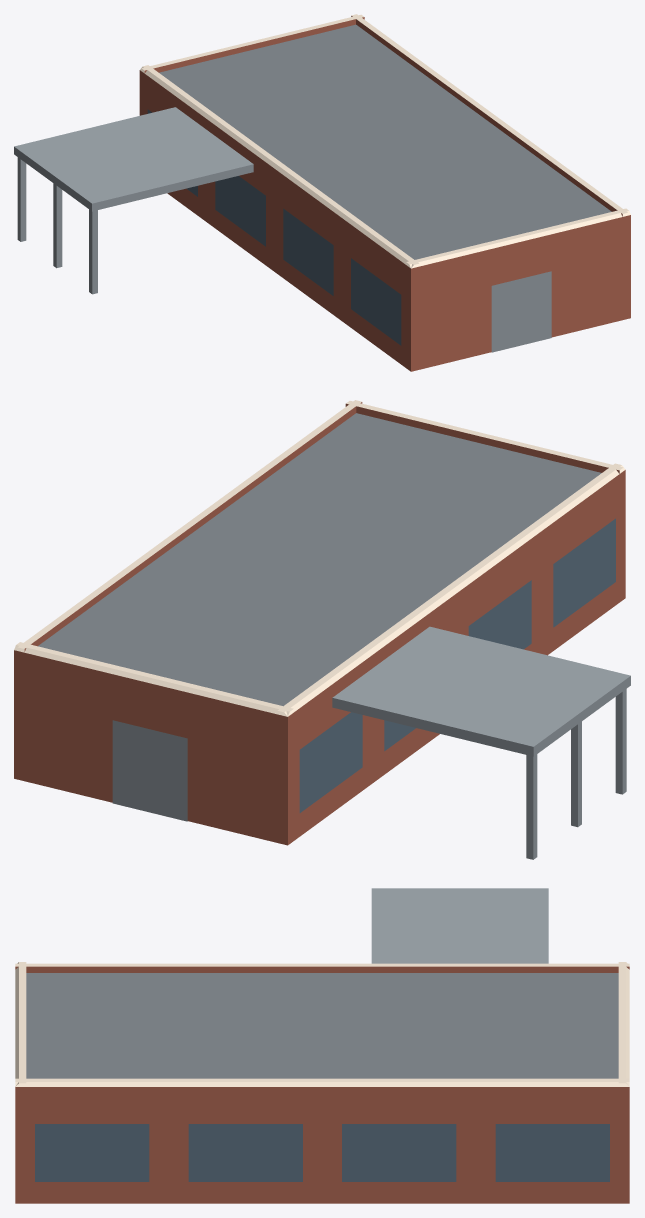
Rendered from clt-cne-200-camp-road.glb.
3 views of the same model, one above another, from view 1: azimuth 30°, elevation 25°; view 2: azimuth 150°, elevation 25°; view 3: azimuth 270°, elevation 25° (orthographic). The views are drawn at different scales.
Parts seen in each view (by area): view 1: 200 Camp Road, Camp North End; view 2: 200 Camp Road, Camp North End; view 3: 200 Camp Road, Camp North End.
Boxes of the visible parts, <box> form: 200 Camp Road, Camp North End: <box>14,14,630,371</box>; 200 Camp Road, Camp North End: <box>14,400,630,859</box>; 200 Camp Road, Camp North End: <box>15,888,629,1203</box>.
Bounding box in the file's own units: 20.35 × 5.4 × 25.1.
